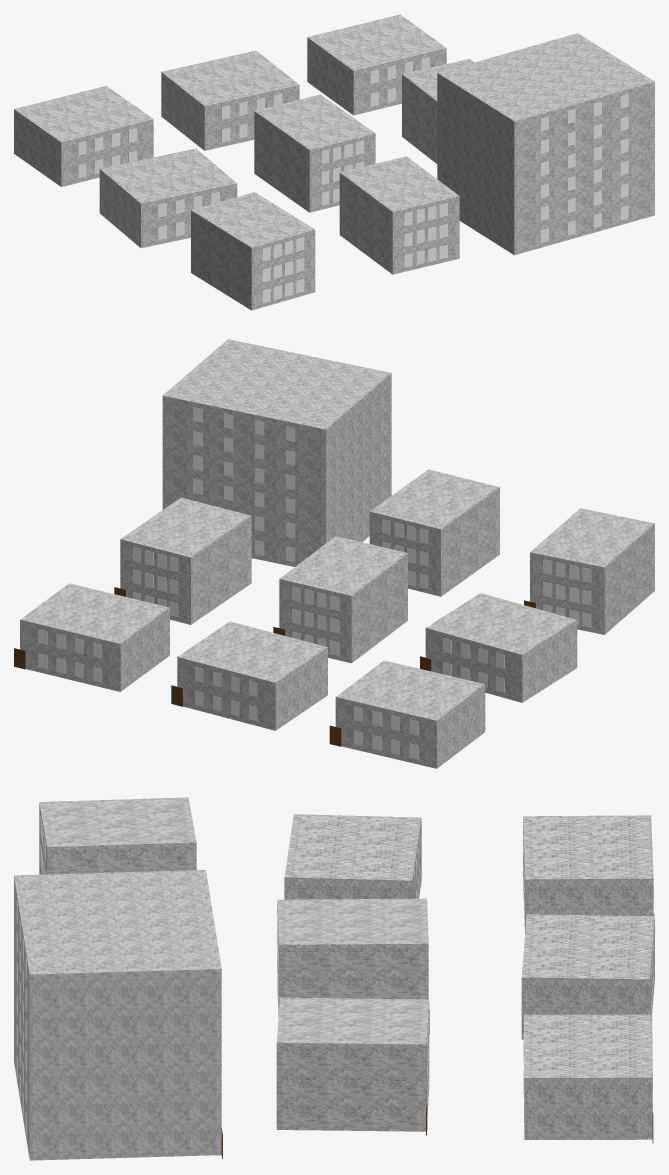
File: bld_mlnej0qe_ota9f70.glb
The picture shows the model from 3 angles, top to bottom: view 1: azimuth 30°, elevation 25°; view 2: azimuth 150°, elevation 25°; view 3: azimuth 270°, elevation 25°; orthographic projection. The views are drawn at different scales.
Visible parts, largest first — view 1: building-building-1771139160685-18, building-building-1771139160685-16, building-building-1771139160685-17, building-building-1771139160685-6, building-building-1771139160685-12, building-building-1771139160685-8, building-building-1771139160685-7, building-building-1771139160685-11, building-building-1771139160685-13; view 2: building-building-1771139160685-18, building-building-1771139160685-7, building-building-1771139160685-6, building-building-1771139160685-8, building-building-1771139160685-13, building-building-1771139160685-12, building-building-1771139160685-11, building-building-1771139160685-16, building-building-1771139160685-17; view 3: building-building-1771139160685-18, building-building-1771139160685-13, building-building-1771139160685-8, building-building-1771139160685-12, building-building-1771139160685-7, building-building-1771139160685-6, building-building-1771139160685-16, building-building-1771139160685-11.
Part boxes in pixels (x1,y1,x2,y2): building-building-1771139160685-18: [437, 33, 654, 255]; building-building-1771139160685-16: [191, 192, 315, 310]; building-building-1771139160685-17: [339, 156, 459, 274]; building-building-1771139160685-6: [14, 86, 153, 186]; building-building-1771139160685-12: [254, 94, 375, 212]; building-building-1771139160685-8: [307, 14, 446, 115]; building-building-1771139160685-7: [161, 50, 299, 150]; building-building-1771139160685-11: [99, 148, 237, 248]; building-building-1771139160685-13: [402, 58, 474, 163]; building-building-1771139160685-18: [162, 339, 391, 566]; building-building-1771139160685-7: [171, 621, 327, 730]; building-building-1771139160685-6: [329, 660, 485, 768]; building-building-1771139160685-8: [14, 583, 169, 691]; building-building-1771139160685-13: [114, 497, 251, 624]; building-building-1771139160685-12: [273, 536, 407, 663]; building-building-1771139160685-11: [420, 593, 577, 702]; building-building-1771139160685-16: [524, 508, 654, 634]; building-building-1771139160685-17: [369, 469, 499, 596]; building-building-1771139160685-18: [14, 870, 222, 1160]; building-building-1771139160685-13: [276, 997, 429, 1135]; building-building-1771139160685-8: [524, 1014, 653, 1143]; building-building-1771139160685-12: [277, 898, 429, 1034]; building-building-1771139160685-7: [521, 914, 654, 1039]; building-building-1771139160685-6: [523, 815, 654, 933]; building-building-1771139160685-16: [39, 797, 196, 874]; building-building-1771139160685-11: [284, 814, 421, 899].
Size of the model in its own units: 62.94 by 19.23 by 59.96.
Materials: 45 (9 with a texture image).
